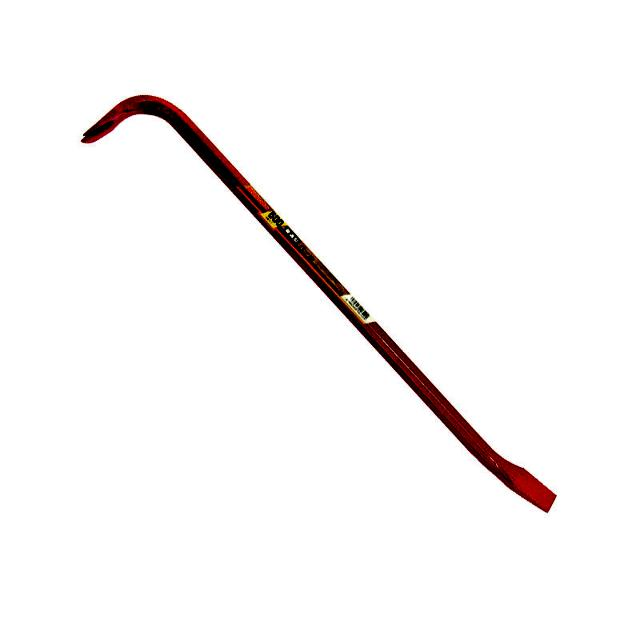crow bar: (71, 78, 567, 518)
